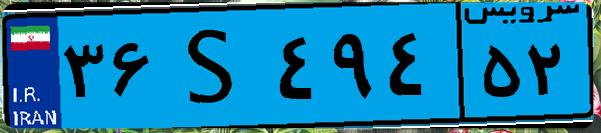2: (525, 38, 570, 115)
3: (57, 26, 110, 100)
4: (270, 28, 330, 110), (385, 28, 445, 110)
5: (475, 38, 525, 113)
6: (110, 28, 158, 98)
9: (330, 28, 385, 110)
S: (158, 12, 270, 120)
